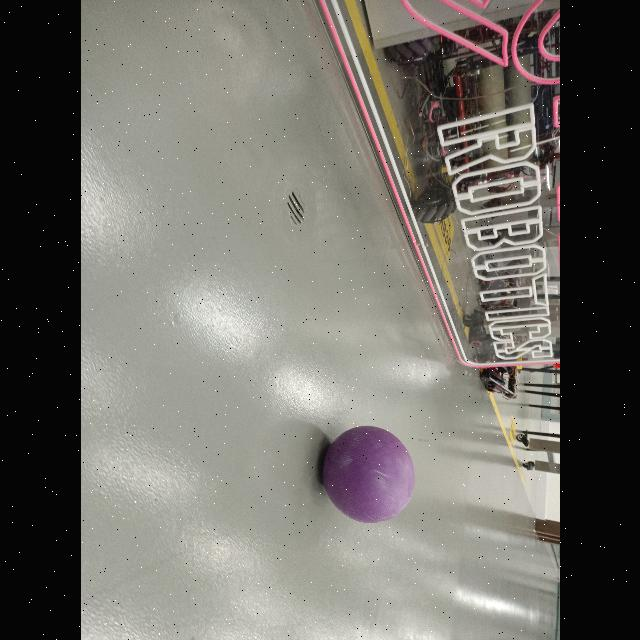P: (316, 421, 418, 531)
